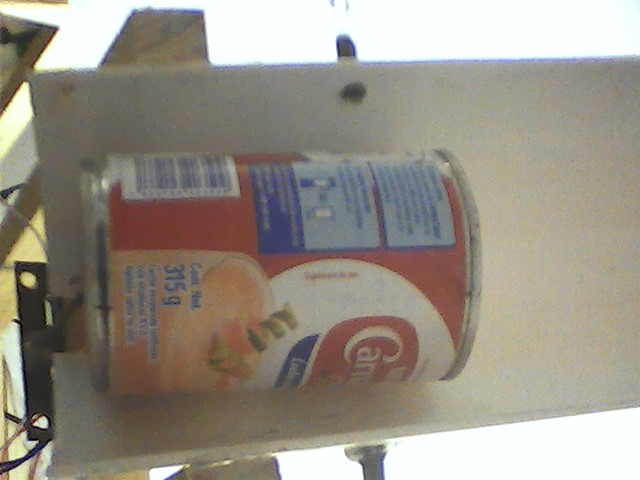lata: (70, 143, 492, 403)
